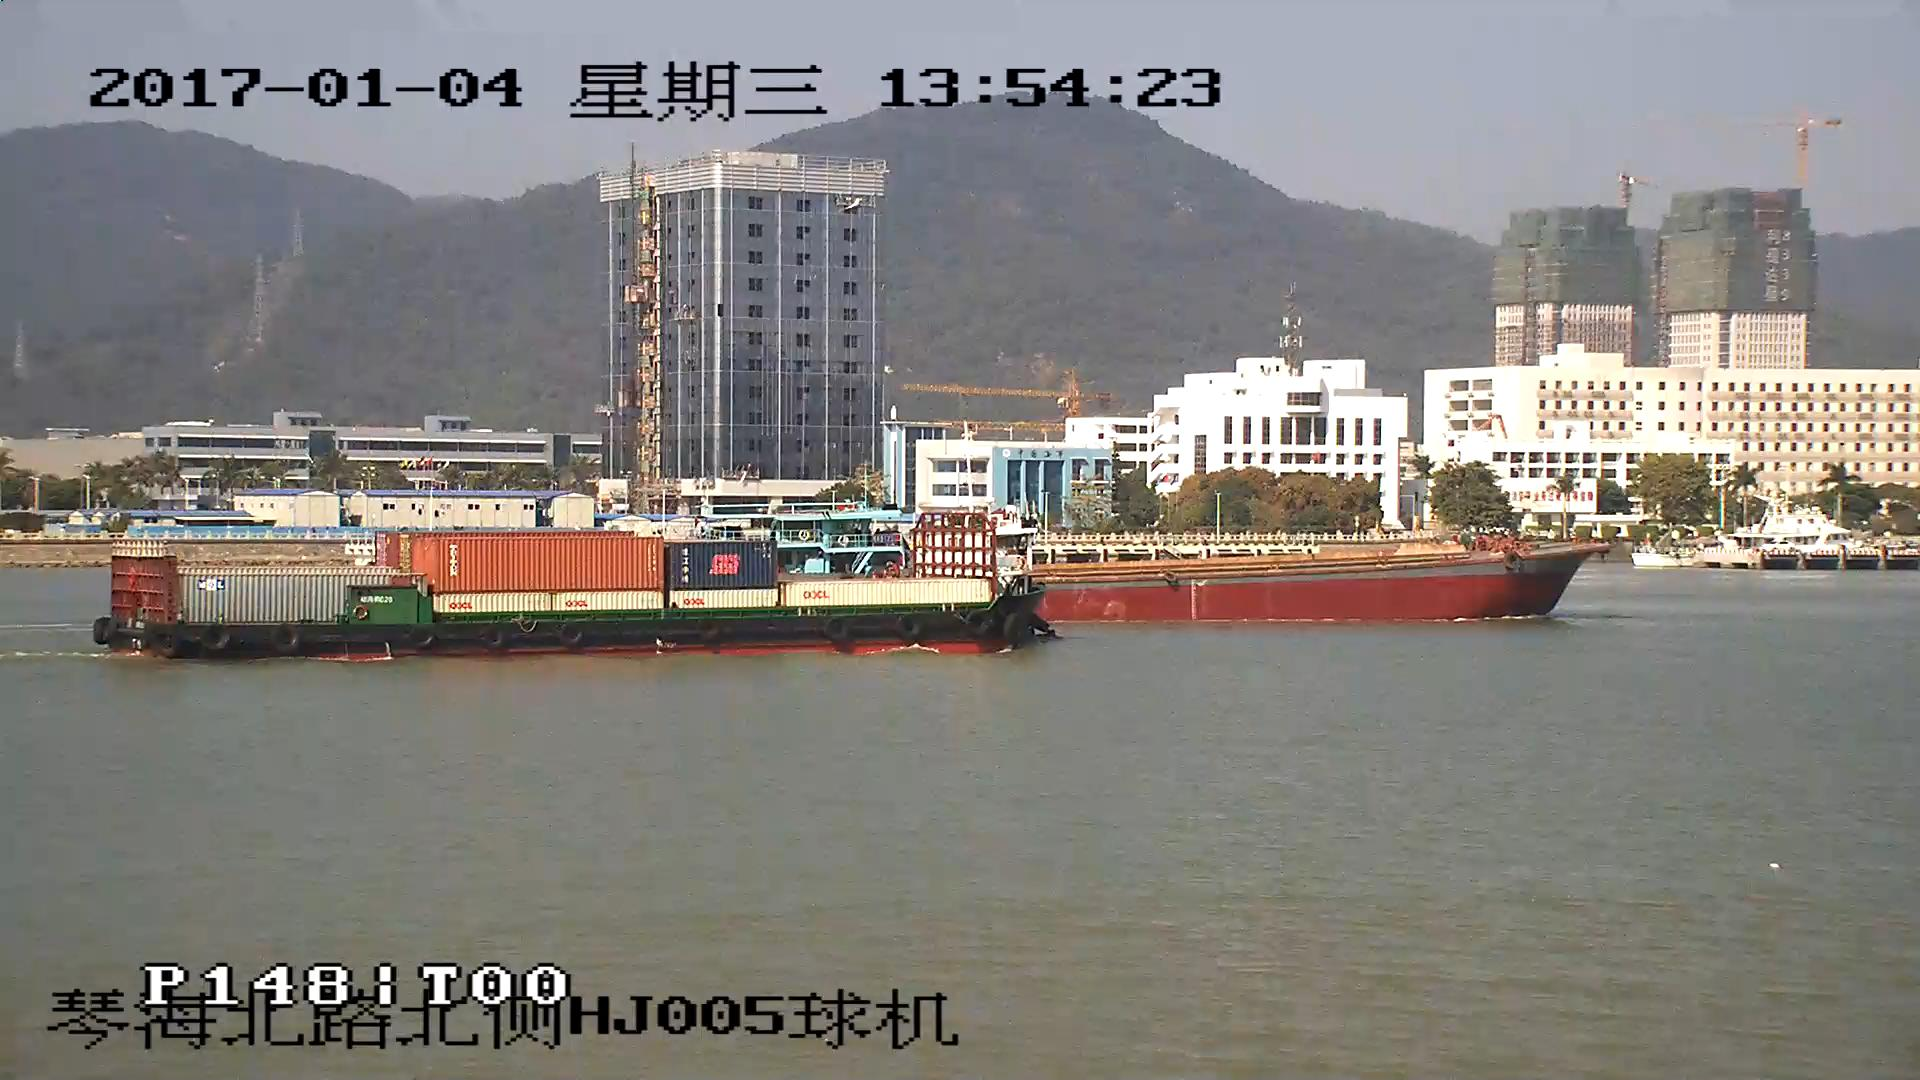bulk cargo carrier: (1056, 540, 1605, 619)
container ship: (95, 515, 1058, 660)
